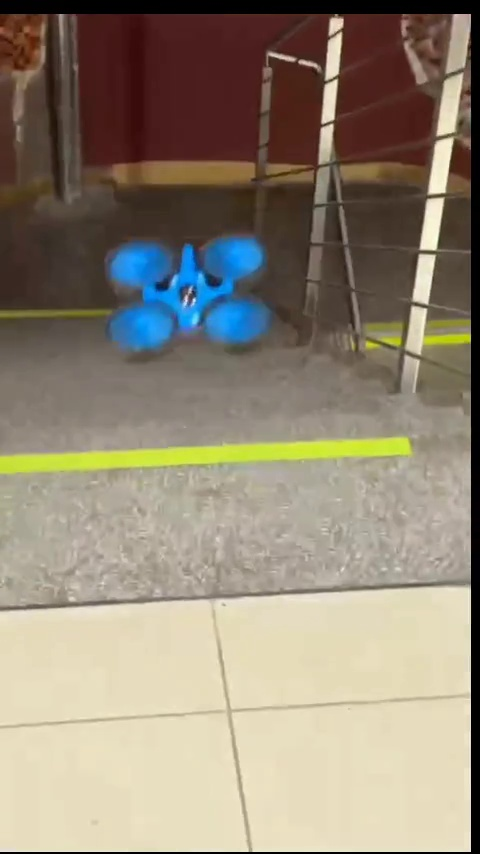drone: (102, 246, 278, 344)
